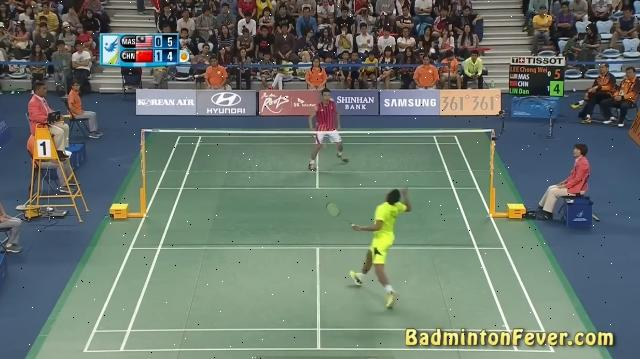Shuttlecock: (429, 46, 437, 56)
